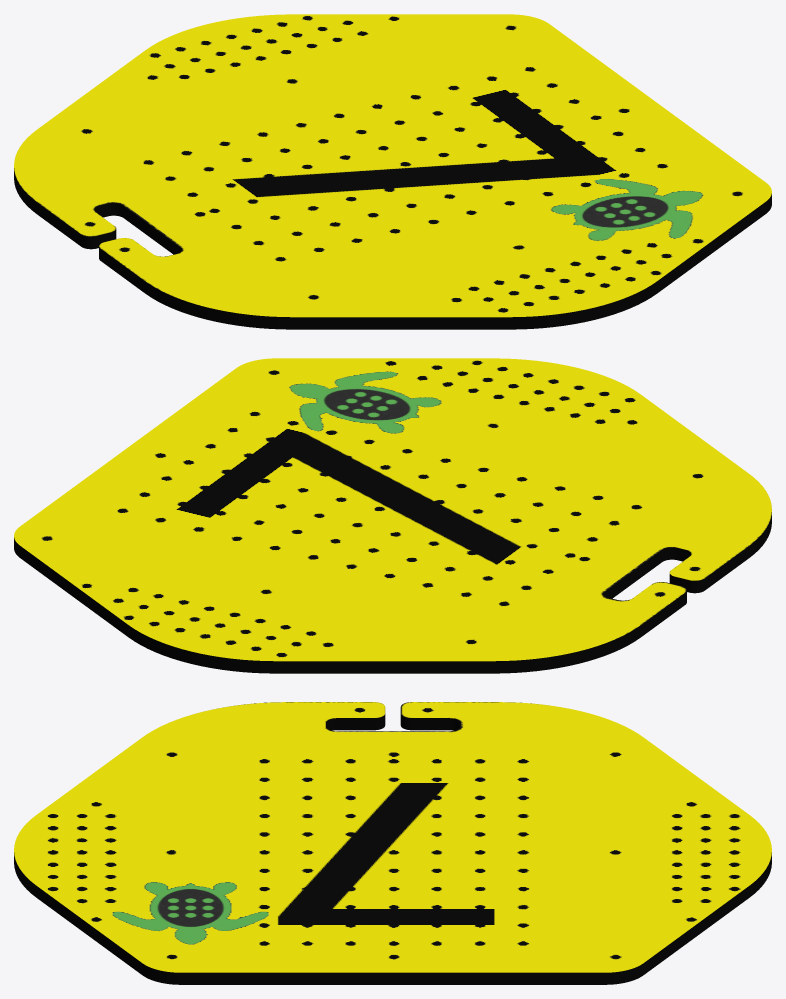
The model's file is plate_top_yellow.dae.
3 views of the same model, one above another, from view 1: azimuth 30°, elevation 25°; view 2: azimuth 150°, elevation 25°; view 3: azimuth 270°, elevation 25° (orthographic). The views are drawn at different scales.
Visible parts, largest first — view 1: _f_stack; view 2: _f_stack; view 3: _f_stack.
Part boxes in pixels (left/top/right/bottom): _f_stack: left=14, top=14, right=771, bottom=329; _f_stack: left=14, top=358, right=771, bottom=673; _f_stack: left=14, top=702, right=771, bottom=984.
Size of the model in its own units: 0.2873 by 0.34 by 0.006.
1 material, 1 textured.
